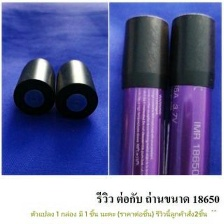battery: (161, 11, 217, 195), (117, 10, 171, 190), (54, 56, 100, 123), (11, 54, 57, 118), (177, 104, 178, 105)
